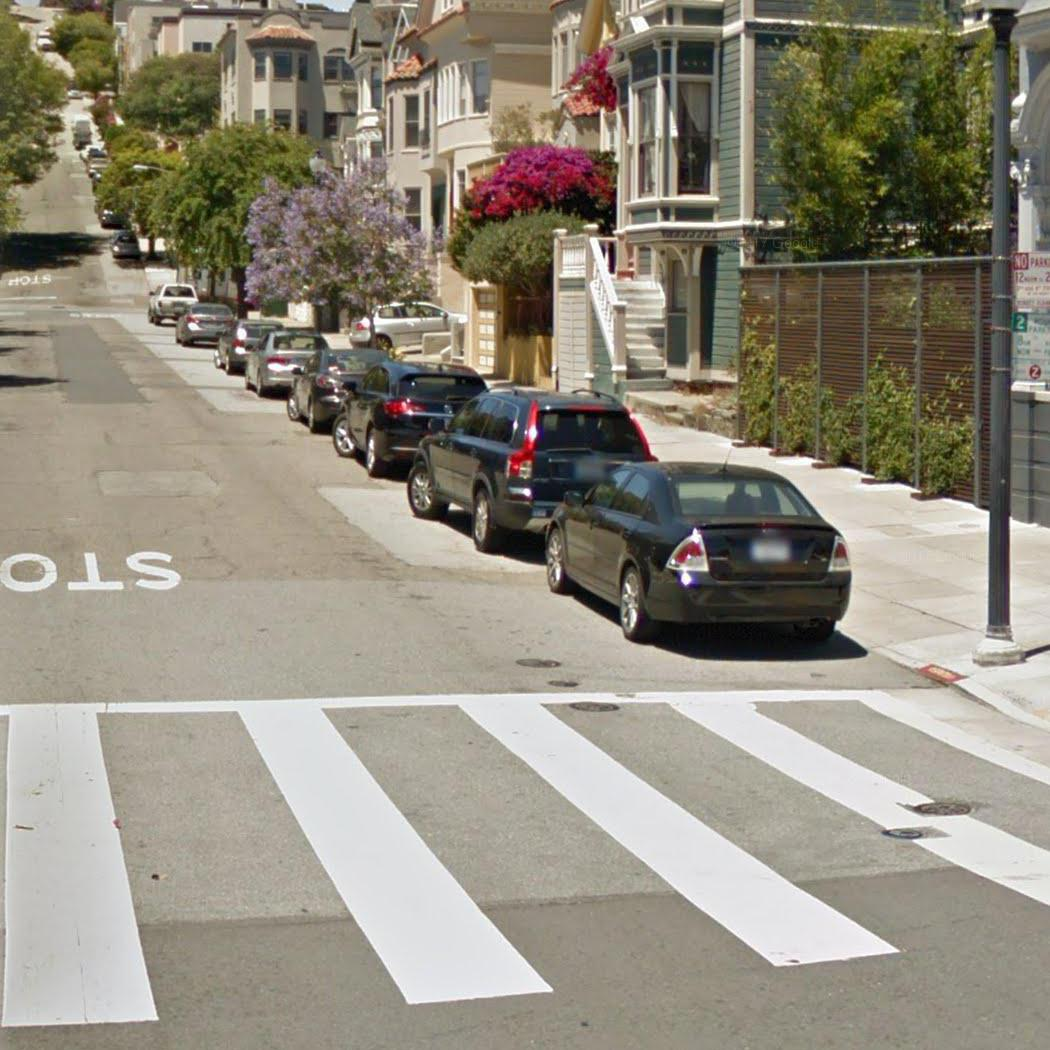2 Hour Parking: (1009, 309, 1050, 382)
No Parking: (1006, 248, 1049, 310)
